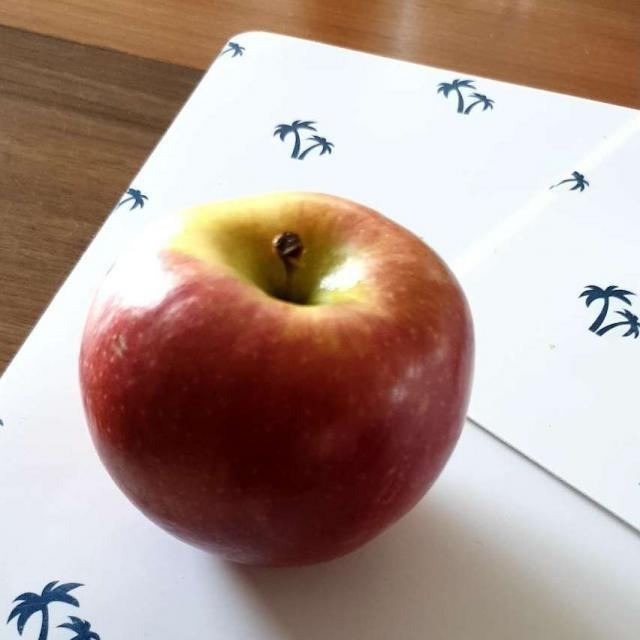apple: (83, 195, 469, 565)
